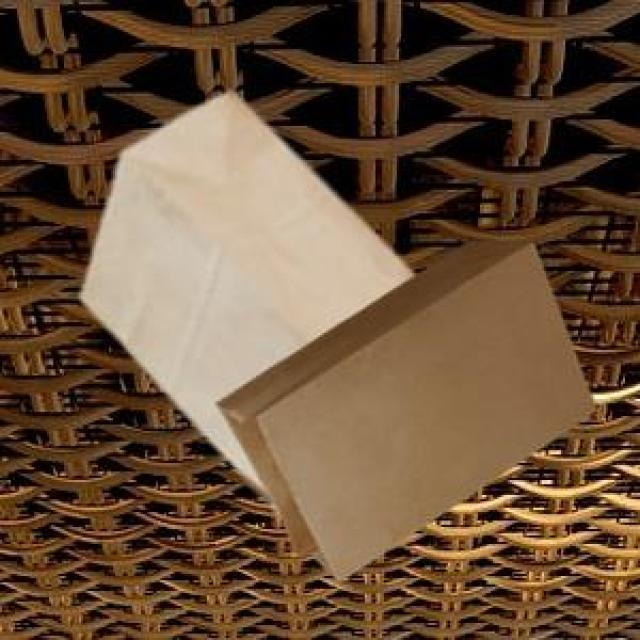paper: (77, 88, 410, 504), (213, 239, 591, 576)
